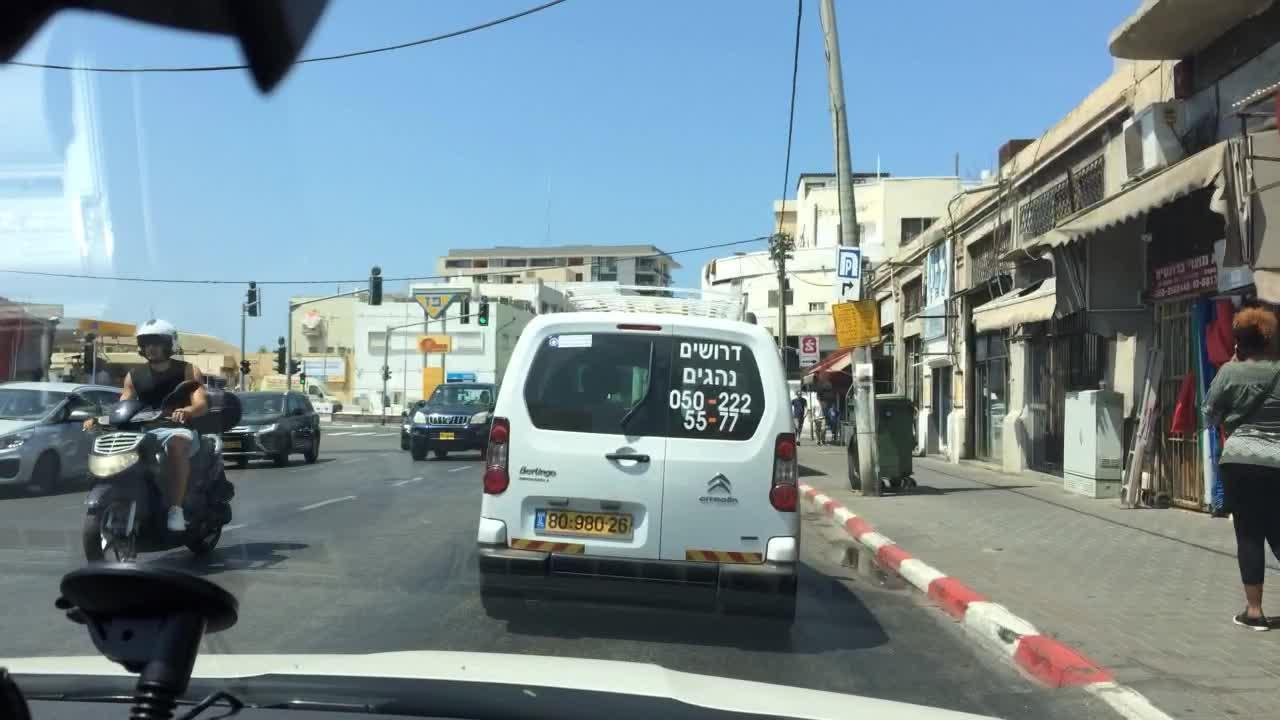Citroen: (704, 470, 732, 499)
